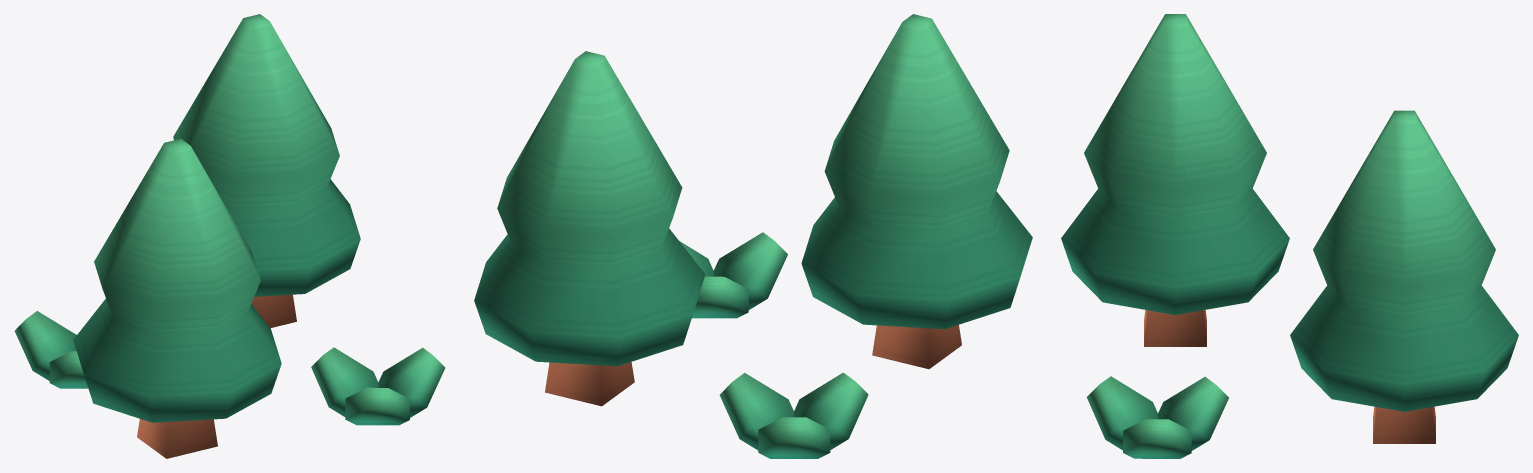
Rendered from tree_pine_d.glb.
3 views of the same model, side by side, from view 1: azimuth 30°, elevation 25°; view 2: azimuth 150°, elevation 25°; view 3: azimuth 270°, elevation 25° (orthographic). The views are drawn at different scales.
Visible parts, largest first — view 1: tree_pine__Mesh_005; view 2: tree_pine__Mesh_005; view 3: tree_pine__Mesh_005.
Part boxes in pixels (left/top/right/bottom): tree_pine__Mesh_005: left=14, top=14, right=445, bottom=458; tree_pine__Mesh_005: left=474, top=14, right=1032, bottom=458; tree_pine__Mesh_005: left=1061, top=14, right=1518, bottom=458.
Size of the model in its own units: 2.36 by 1.88 by 2.36.
Materials: 1 (1 with a texture image).
